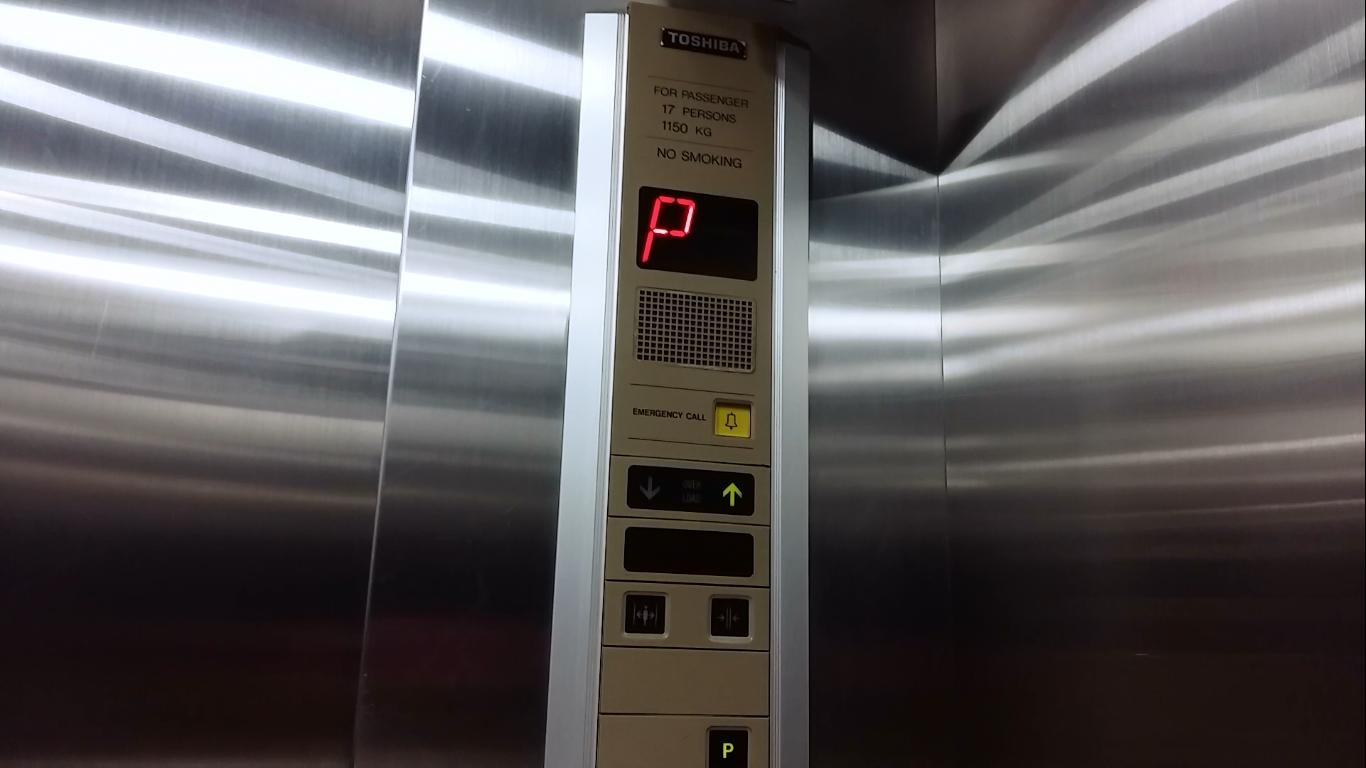P: (703, 722, 753, 768)
alarm: (710, 398, 757, 443)
close: (707, 595, 753, 639)
led: (632, 183, 763, 285), (620, 523, 759, 579), (620, 462, 759, 518)
open: (620, 591, 670, 639)
